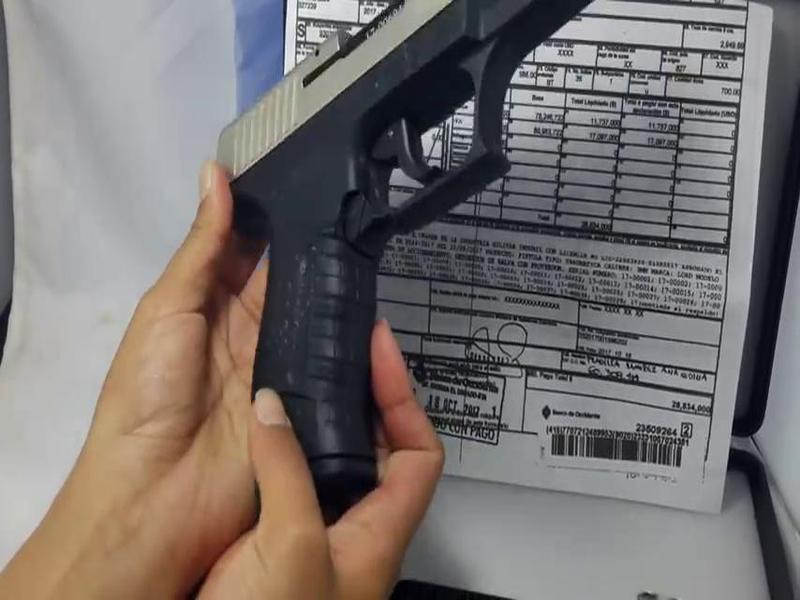Pistola: (197, 1, 610, 514)
